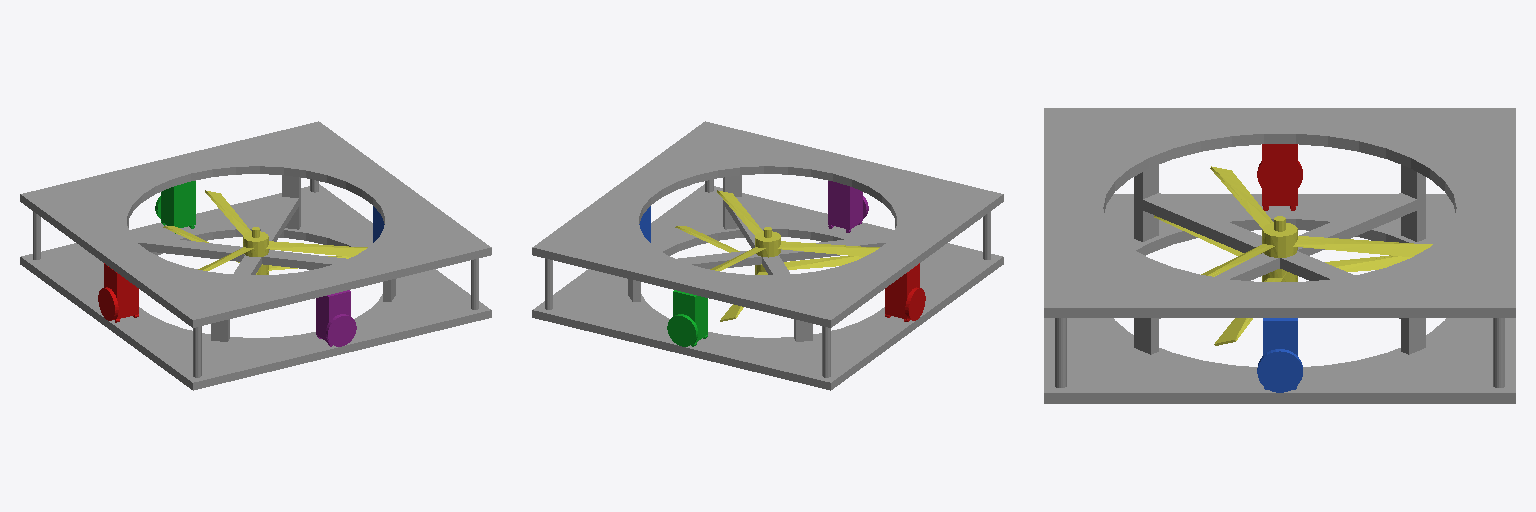
The robot description file, URDF, robot "mmc_uav_description":
<?xml version='1.0' encoding='utf-8'?>
<robot name="mmc_uav_description">
  <link name="base_link">
    <inertial>
      <origin xyz="1.2765519145156213e-10 -6.8434877739622703e-06 0.00017260287769784225" rpy="0 0 0" />
      <mass value="1.103956834532374" />
      <inertia ixx="0.061506166495375131" ixy="0" ixz="0" iyy="0.061506166495375131" iyz="0" izz="0.063083247687564237" />
    </inertial>
    <visual>
      <origin xyz="1.2765511134056213e-10 -6.8434877741260306e-06 -0.034827397122302164" rpy="0 0 0" />
      <geometry>
        <mesh filename="package://mmc_uav_description/meshes/base_link.STL" />
      </geometry>
      <material name="">
        <color rgba="0.65 0.65 0.65 1" />
      </material>
    </visual>
    <collision>
      <origin xyz="1.2765511134056213e-10 -6.8434877741260306e-06 -0.034827397122302164" rpy="0 0 0" />
      <geometry>
        <mesh filename="package://mmc_uav_description/meshes/base_link.STL" />
      </geometry>
    </collision>
  </link>
  <link name="rotor_upper_link">
    <inertial>
      <origin xyz="1.8255E-08 6.3335E-09 0.00042643" rpy="0 0 0" />
      <mass value="0.10000000000000001" />
      <inertia ixx="1.0000000000000001e-09" ixy="0" ixz="0" iyy="1.0000000000000001e-09" iyz="0" izz="1.0000000000000001e-09" />
    </inertial>
    <visual>
      <origin xyz="0 0 0" rpy="0 0 0" />
      <geometry>
        <mesh filename="package://mmc_uav_description/meshes/rotor_upper_link.STL" />
      </geometry>
      <material name="">
        <color rgba="0.8 0.8 0.3 1" />
      </material>
    </visual>
    <collision>
      <origin xyz="0 0 0" rpy="0 0 0" />
      <geometry>
        <mesh filename="package://mmc_uav_description/meshes/rotor_upper_link.STL" />
      </geometry>
    </collision>
  </link>
  <joint name="joint_rotor_upper" type="continuous">
    <origin xyz="1.2765511134056213e-10 -6.8434877741260306e-06 0.015172602877697842" rpy="0 0 0" />
    <parent link="base_link" />
    <child link="rotor_upper_link" />
    <axis xyz="0 0 1" />
    <limit effort="100" velocity="400" />
  </joint>
  <link name="slider_blue_link">
    <inertial>
      <origin xyz="0.0017202 2.4016E-06 0.028256" rpy="0 0 0" />
      <mass value="0.036510791366906478" />
      <inertia ixx="0.00043812949640287767" ixy="0" ixz="0" iyy="0.00043812949640287767" iyz="0" izz="0.00087625899280575534" />
    </inertial>
    <visual>
      <origin xyz="0 0 0" rpy="0 0 0" />
      <geometry>
        <mesh filename="package://mmc_uav_description/meshes/slider_blue_link.STL" />
      </geometry>
      <material name="">
        <color rgba="0.2 0.4 0.8 1" />
      </material>
    </visual>
    <collision>
      <origin xyz="0 0 0" rpy="0 0 0" />
      <geometry>
        <mesh filename="package://mmc_uav_description/meshes/slider_blue_link.STL" />
      </geometry>
    </collision>
  </link>
  <joint name="joint_slider_blue" type="prismatic">
    <origin xyz="0.1800000001276551 0.00014343651222587395 -0.02979709712230216" rpy="0 0 0" />
    <parent link="base_link" />
    <child link="slider_blue_link" />
    <axis xyz="0 1 0" />
    <limit lower="-0.15" upper="0.15" effort="2.0" velocity="0.25" />
  </joint>
  <link name="slider_red_link">
    <inertial>
      <origin xyz="-0.0017202 -2.4016E-06 0.028256" rpy="0 0 0" />
      <mass value="0.036510791366906478" />
      <inertia ixx="0.00043812949640287767" ixy="0" ixz="0" iyy="0.00043812949640287767" iyz="0" izz="0.00087625899280575534" />
    </inertial>
    <visual>
      <origin xyz="0 0 0" rpy="0 0 0" />
      <geometry>
        <mesh filename="package://mmc_uav_description/meshes/slider_red_link.STL" />
      </geometry>
      <material name="">
        <color rgba="0.8 0.1 0.1 1" />
      </material>
    </visual>
    <collision>
      <origin xyz="0 0 0" rpy="0 0 0" />
      <geometry>
        <mesh filename="package://mmc_uav_description/meshes/slider_red_link.STL" />
      </geometry>
    </collision>
  </link>
  <joint name="joint_slider_red" type="prismatic">
    <origin xyz="-0.17999999987234488 0.00011458651222587397 -0.02979709712230216" rpy="0 0 0" />
    <parent link="base_link" />
    <child link="slider_red_link" />
    <axis xyz="0 1 0" />
    <limit lower="-0.15" upper="0.15" effort="2.0" velocity="0.25" />
  </joint>
  <link name="slider_purple_link">
    <inertial>
      <origin xyz="2.4016E-06 -0.0017202 0.028256" rpy="0 0 0" />
      <mass value="0.036510791366906478" />
      <inertia ixx="0.00043812949640287767" ixy="0" ixz="0" iyy="0.00043812949640287767" iyz="0" izz="0.00087625899280575534" />
    </inertial>
    <visual>
      <origin xyz="0 0 0" rpy="0 0 0" />
      <geometry>
        <mesh filename="package://mmc_uav_description/meshes/slider_purple_link.STL" />
      </geometry>
      <material name="">
        <color rgba="0.6 0.2 0.6 1" />
      </material>
    </visual>
    <collision>
      <origin xyz="0 0 0" rpy="0 0 0" />
      <geometry>
        <mesh filename="package://mmc_uav_description/meshes/slider_purple_link.STL" />
      </geometry>
    </collision>
  </link>
  <joint name="joint_slider_purple" type="prismatic">
    <origin xyz="1.2765511134056213e-10 -0.18000684348777413 -0.02979709712230216" rpy="0 0 0" />
    <parent link="base_link" />
    <child link="slider_purple_link" />
    <axis xyz="-1 0 0" />
    <limit lower="-0.15" upper="0.15" effort="2.0" velocity="0.25" />
  </joint>
  <link name="slider_green_link">
    <inertial>
      <origin xyz="-2.4016E-06 0.0017202 0.028256" rpy="0 0 0" />
      <mass value="0.036510791366906478" />
      <inertia ixx="0.00043812949640287767" ixy="0" ixz="0" iyy="0.00043812949640287767" iyz="0" izz="0.00087625899280575534" />
    </inertial>
    <visual>
      <origin xyz="0 0 0" rpy="0 0 0" />
      <geometry>
        <mesh filename="package://mmc_uav_description/meshes/slider_green_link.STL" />
      </geometry>
      <material name="">
        <color rgba="0.1 0.7 0.2 1" />
      </material>
    </visual>
    <collision>
      <origin xyz="0 0 0" rpy="0 0 0" />
      <geometry>
        <mesh filename="package://mmc_uav_description/meshes/slider_green_link.STL" />
      </geometry>
    </collision>
  </link>
  <joint name="joint_slider_green" type="prismatic">
    <origin xyz="1.2765511134056213e-10 0.17999315651222586 -0.02979709712230216" rpy="0 0 0" />
    <parent link="base_link" />
    <child link="slider_green_link" />
    <axis xyz="-1 0 0" />
    <limit lower="-0.15" upper="0.15" effort="2.0" velocity="0.25" />
  </joint>
  <link name="rotor_lower_link">
    <inertial>
      <origin xyz="-2.0106E-08 2.0768E-08 -0.00042643" rpy="0 0 0" />
      <mass value="0.10000000000000001" />
      <inertia ixx="1.0000000000000001e-09" ixy="0" ixz="0" iyy="1.0000000000000001e-09" iyz="0" izz="1.0000000000000001e-09" />
    </inertial>
    <visual>
      <origin xyz="0 0 0" rpy="0 0 0" />
      <geometry>
        <mesh filename="package://mmc_uav_description/meshes/rotor_lower_link.STL" />
      </geometry>
      <material name="">
        <color rgba="0.8 0.8 0.3 1" />
      </material>
    </visual>
    <collision>
      <origin xyz="0 0 0" rpy="0 0 0" />
      <geometry>
        <mesh filename="package://mmc_uav_description/meshes/rotor_lower_link.STL" />
      </geometry>
    </collision>
  </link>
  <joint name="joint_rotor_lower" type="continuous">
    <origin xyz="1.2765511134056213e-10 -6.8434877741260306e-06 -0.014827397122302161" rpy="0 0 0" />
    <parent link="base_link" />
    <child link="rotor_lower_link" />
    <axis xyz="0 0 1" />
    <limit effort="100" velocity="400" />
  </joint>
  <gazebo>
    <plugin filename="gz-sim-joint-state-publisher-system" name="gz::sim::systems::JointStatePublisher">
      <topic>/model/mmc_uav/joint_state</topic>
    </plugin>
    <plugin filename="mmc-slider-servo-system" name="mmc::SliderServo">
      <joint_name>joint_slider_blue</joint_name>
      <topic>/model/mmc_uav/joint/joint_slider_blue/cmd_pos</topic>
      <wn>20.0</wn>
      <zeta>1.2</zeta>
      <moving_mass>0.03651079136690648</moving_mass>
      <velocity_limit>0.25</velocity_limit>
      <command_limit>0.135</command_limit>
      <mechanical_limit>0.15</mechanical_limit>
      <effort_limit>2.0</effort_limit>
      <load_observer_tau>0.02</load_observer_tau>
    </plugin>
    <plugin filename="mmc-slider-servo-system" name="mmc::SliderServo">
      <joint_name>joint_slider_red</joint_name>
      <topic>/model/mmc_uav/joint/joint_slider_red/cmd_pos</topic>
      <wn>20.0</wn>
      <zeta>1.2</zeta>
      <moving_mass>0.03651079136690648</moving_mass>
      <velocity_limit>0.25</velocity_limit>
      <command_limit>0.135</command_limit>
      <mechanical_limit>0.15</mechanical_limit>
      <effort_limit>2.0</effort_limit>
      <load_observer_tau>0.02</load_observer_tau>
    </plugin>
    <plugin filename="mmc-slider-servo-system" name="mmc::SliderServo">
      <joint_name>joint_slider_green</joint_name>
      <topic>/model/mmc_uav/joint/joint_slider_green/cmd_pos</topic>
      <wn>20.0</wn>
      <zeta>1.2</zeta>
      <moving_mass>0.03651079136690648</moving_mass>
      <velocity_limit>0.25</velocity_limit>
      <command_limit>0.135</command_limit>
      <mechanical_limit>0.15</mechanical_limit>
      <effort_limit>2.0</effort_limit>
      <load_observer_tau>0.02</load_observer_tau>
    </plugin>
    <plugin filename="mmc-slider-servo-system" name="mmc::SliderServo">
      <joint_name>joint_slider_purple</joint_name>
      <topic>/model/mmc_uav/joint/joint_slider_purple/cmd_pos</topic>
      <wn>20.0</wn>
      <zeta>1.2</zeta>
      <moving_mass>0.03651079136690648</moving_mass>
      <velocity_limit>0.25</velocity_limit>
      <command_limit>0.135</command_limit>
      <mechanical_limit>0.15</mechanical_limit>
      <effort_limit>2.0</effort_limit>
      <load_observer_tau>0.02</load_observer_tau>
    </plugin>
    <plugin filename="gz-sim-multicopter-motor-model-system" name="gz::sim::systems::MulticopterMotorModel">
      <robotNamespace>mmc_uav</robotNamespace>
      <jointName>joint_rotor_upper</jointName>
      <linkName>rotor_upper_link</linkName>
      <turningDirection>ccw</turningDirection>
      <timeConstantUp>0.01</timeConstantUp>
      <timeConstantDown>0.02</timeConstantDown>
      <maxRotVelocity>400.0</maxRotVelocity>
      <motorConstant>1.5e-4</motorConstant>
      <momentConstant>0.002</momentConstant>
      <commandSubTopic>command/motor_speed</commandSubTopic>
      <actuator_number>0</actuator_number>
      <rotorDragCoefficient>0.0</rotorDragCoefficient>
      <rollingMomentCoefficient>0.0</rollingMomentCoefficient>
      <motorSpeedPubTopic>motor_speed/upper</motorSpeedPubTopic>
      <rotorVelocitySlowdownSim>10</rotorVelocitySlowdownSim>
      <motorType>velocity</motorType>
    </plugin>
    <plugin filename="gz-sim-multicopter-motor-model-system" name="gz::sim::systems::MulticopterMotorModel">
      <robotNamespace>mmc_uav</robotNamespace>
      <jointName>joint_rotor_lower</jointName>
      <linkName>rotor_lower_link</linkName>
      <turningDirection>cw</turningDirection>
      <timeConstantUp>0.01</timeConstantUp>
      <timeConstantDown>0.02</timeConstantDown>
      <maxRotVelocity>400.0</maxRotVelocity>
      <motorConstant>1.275e-4</motorConstant>
      <momentConstant>0.002</momentConstant>
      <commandSubTopic>command/motor_speed</commandSubTopic>
      <actuator_number>1</actuator_number>
      <rotorDragCoefficient>0.0</rotorDragCoefficient>
      <rollingMomentCoefficient>0.0</rollingMomentCoefficient>
      <motorSpeedPubTopic>motor_speed/lower</motorSpeedPubTopic>
      <rotorVelocitySlowdownSim>10</rotorVelocitySlowdownSim>
      <motorType>velocity</motorType>
    </plugin>
    <plugin filename="gz-sim-odometry-publisher-system" name="gz::sim::systems::OdometryPublisher">
      <odom_frame>mmc_world</odom_frame>
      <robot_base_frame>base_link</robot_base_frame>
      <odom_publish_frequency>100</odom_publish_frequency>
      <odom_topic>/model/mmc_uav/odometry</odom_topic>
      <dimensions>3</dimensions>
    </plugin>
  </gazebo>
  <gazebo reference="base_link">
    <enable_wind>false</enable_wind>
    <sensor name="imu_sensor" type="imu">
      <pose>1.2765511134056213e-10 -6.8434877741260306e-06 -0.034827397122302164 0 0 0</pose>
      <always_on>1</always_on>
      <update_rate>250</update_rate>
      <visualize>true</visualize>
      <topic>/imu</topic>
    </sensor>
  </gazebo>
</robot>

--- Render facts (derived) ---
The picture shows the robot from 3 angles, left to right: view 1: azimuth 30°, elevation 25°; view 2: azimuth 150°, elevation 25°; view 3: azimuth 270°, elevation 25°; orthographic projection.
Robot: mmc_uav_description — 7 links, 6 joints (2 continuous, 4 prismatic); root link base_link; default pose: all joints at 0.
Visible links, largest first — view 1: base_link, rotor_upper_link, slider_purple_link, slider_red_link, slider_green_link; view 2: base_link, rotor_upper_link, slider_green_link, slider_red_link, slider_purple_link, rotor_lower_link; view 3: base_link, rotor_upper_link, slider_blue_link, slider_red_link, rotor_lower_link.
Link boxes in pixels (x1,y1,x2,y2): base_link: [20, 121, 491, 390]; rotor_upper_link: [198, 190, 367, 270]; slider_purple_link: [316, 290, 356, 346]; slider_red_link: [98, 263, 138, 322]; slider_green_link: [155, 181, 195, 233]; base_link: [532, 121, 1003, 390]; rotor_upper_link: [710, 190, 879, 270]; slider_green_link: [667, 290, 707, 346]; slider_red_link: [885, 263, 925, 321]; slider_purple_link: [828, 181, 868, 232]; rotor_lower_link: [675, 226, 862, 321]; base_link: [1044, 108, 1515, 403]; rotor_upper_link: [1201, 166, 1432, 276]; slider_blue_link: [1257, 318, 1302, 392]; slider_red_link: [1257, 144, 1302, 210]; rotor_lower_link: [1154, 215, 1411, 345].
Size in the robot's own frame: 0.4 by 0.4 by 0.09 metres.
Meshes: 7 distinct files referenced, 7 mesh visuals loaded (7 binary STL).
